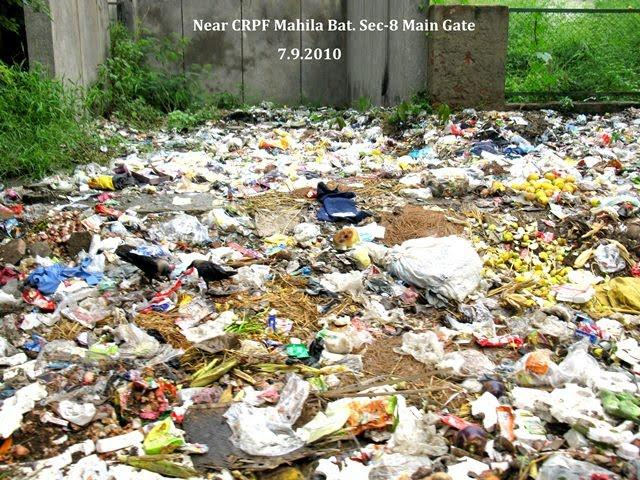garbage: (47, 170, 633, 480), (214, 118, 620, 168)
